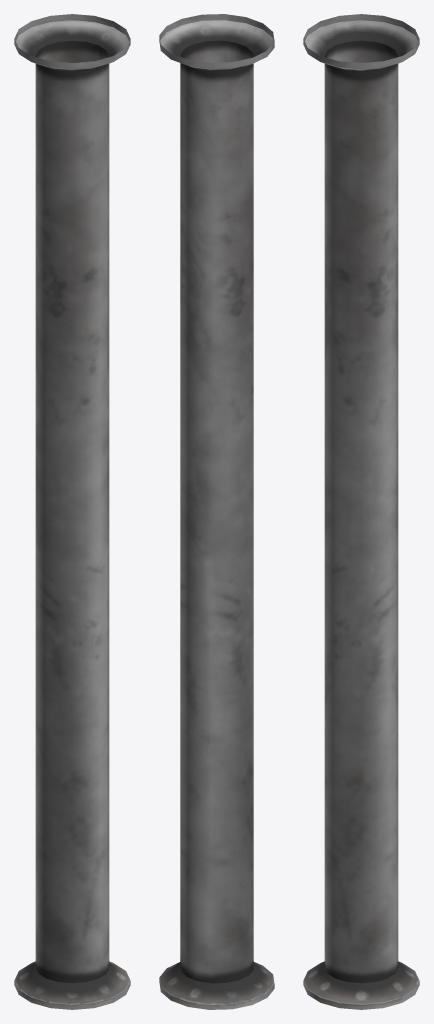
Rendered from SM_Tribines_Constructions_B.fbx.
The picture shows the model from 3 angles, left to right: view 1: azimuth 90°, elevation 25°; view 2: azimuth 150°, elevation 25°; view 3: azimuth 270°, elevation 25°; orthographic projection.
Parts seen in each view (by area): view 1: SM_Tribines_Constructions_B; view 2: SM_Tribines_Constructions_B; view 3: SM_Tribines_Constructions_B.
Boxes of the visible parts, box(x1,y1,x2,y2) form: SM_Tribines_Constructions_B: box(14, 14, 130, 1009); SM_Tribines_Constructions_B: box(159, 14, 274, 1009); SM_Tribines_Constructions_B: box(303, 14, 419, 1009).
Bounding box in the file's own units: 33.79 × 33.79 × 304.
Materials: 1 (1 with a texture image).
